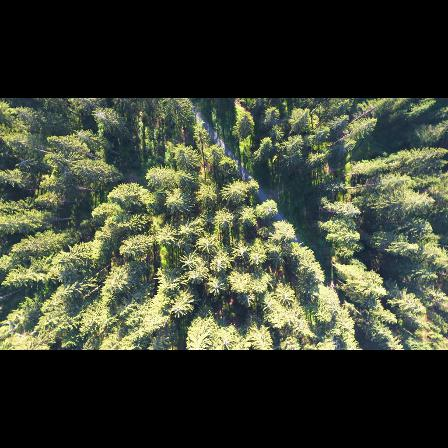Sick: (245, 251, 267, 266), (206, 280, 224, 296)
